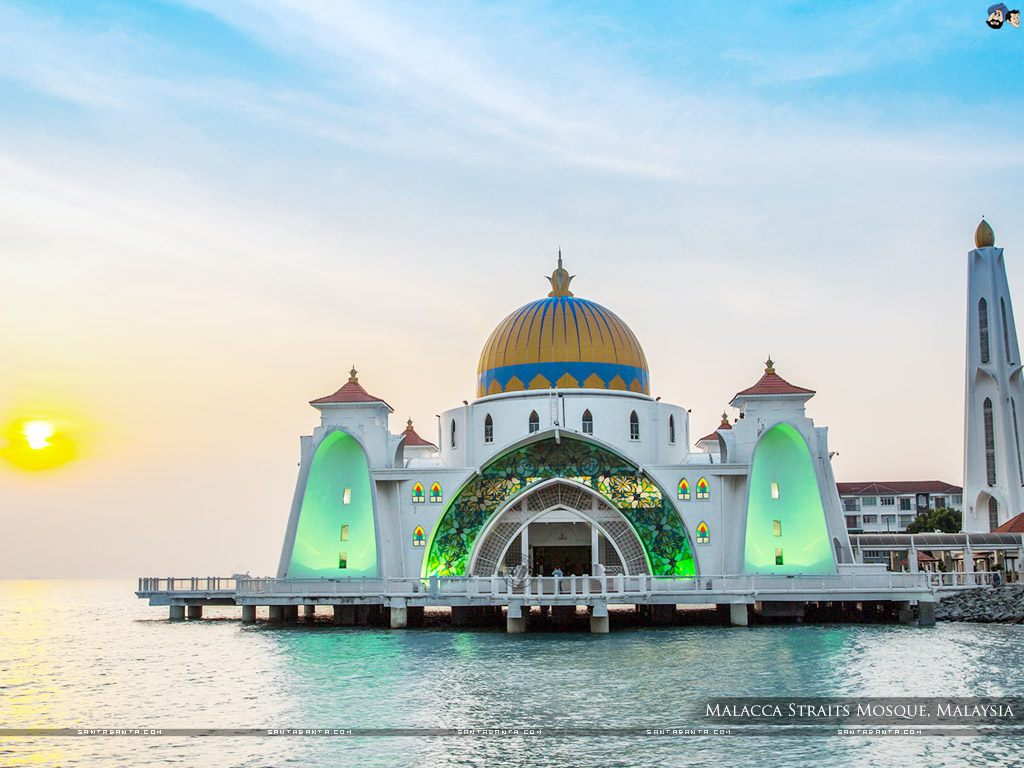Mosque: (270, 195, 1004, 598)
